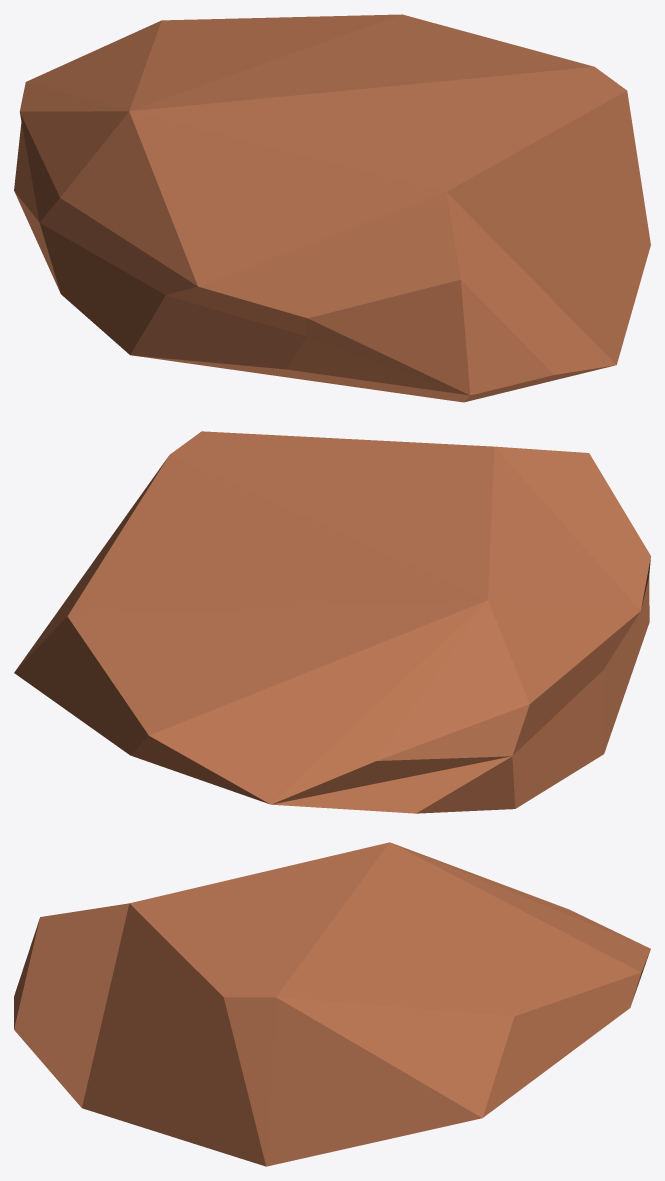
The model's file is Small_Rock_001.fbx.
The picture shows the model from 3 angles, top to bottom: view 1: azimuth 30°, elevation 25°; view 2: azimuth 150°, elevation 25°; view 3: azimuth 270°, elevation 25°; orthographic projection. The views are drawn at different scales.
Parts seen in each view (by area): view 1: Small_Rocks_001; view 2: Small_Rocks_001; view 3: Small_Rocks_001.
Boxes of the visible parts, x1,y1,x2,y2 form: Small_Rocks_001: [14, 14, 650, 402]; Small_Rocks_001: [14, 431, 650, 813]; Small_Rocks_001: [14, 842, 650, 1166].
Size of the model in its own units: 0.6126 by 0.2162 by 0.8339.
